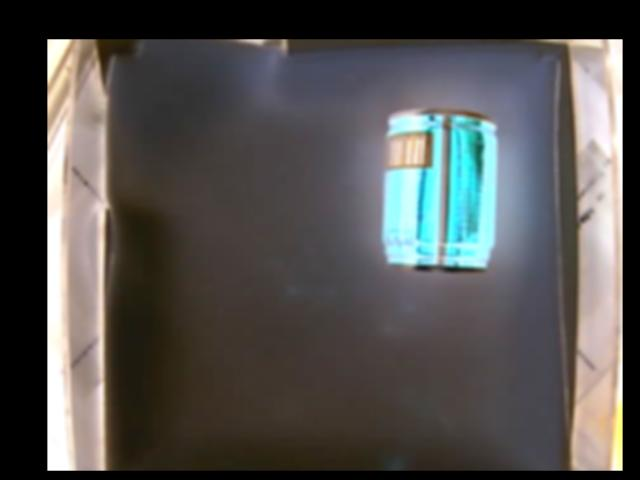Bottle: (384, 109, 498, 272)
